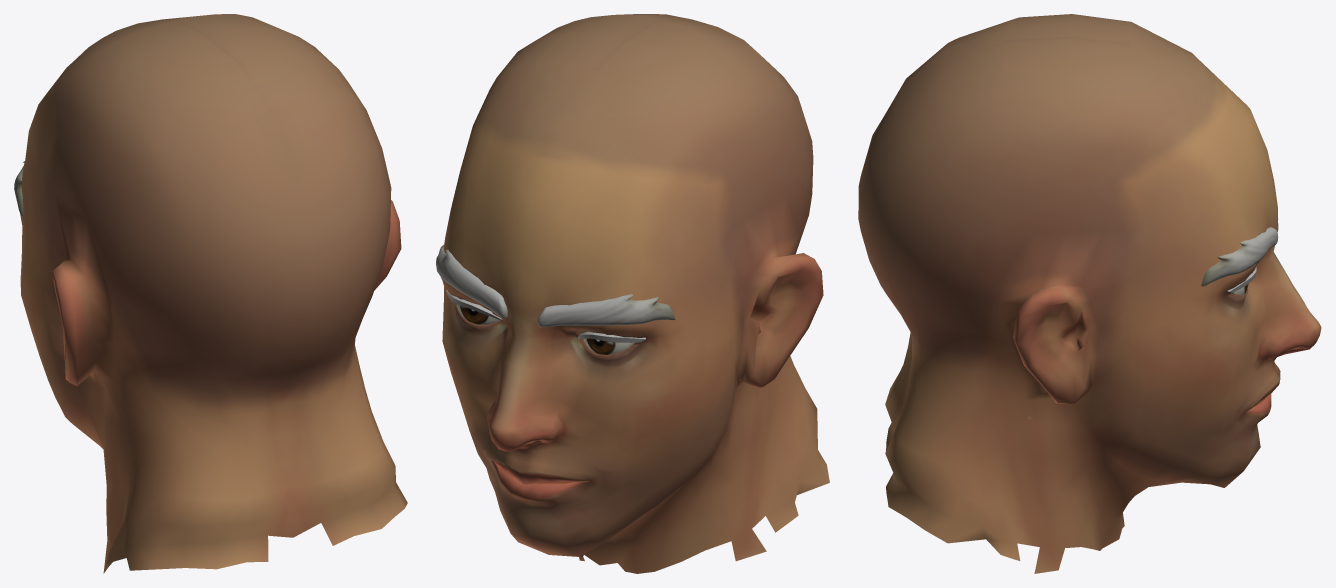
Rendered from Superhero_Male_Head.fbx.
3 renders of one model, left to right at view 1: azimuth 30°, elevation 25°; view 2: azimuth 150°, elevation 25°; view 3: azimuth 270°, elevation 25°, orthographic. The views are drawn at different scales.
Parts seen in each view (by area): view 1: SuperHero_Male; view 2: SuperHero_Male; view 3: SuperHero_Male.
Part boxes in pixels (x1,y1,x2,y2): SuperHero_Male: (14,14,407,573); SuperHero_Male: (436,14,829,573); SuperHero_Male: (858,14,1321,573).
Bounding box in the file's own units: 0.1813 × 0.2633 × 0.2213.
